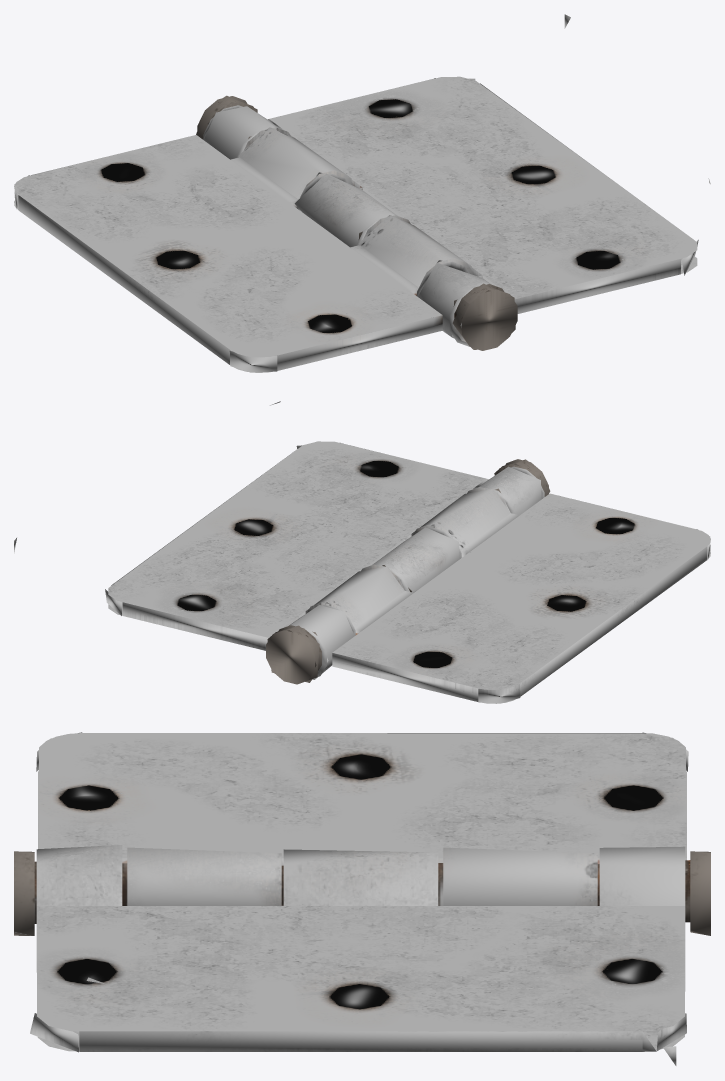
Rendered from hinge.fbx.
The picture shows the model from 3 angles, top to bottom: view 1: azimuth 30°, elevation 25°; view 2: azimuth 150°, elevation 25°; view 3: azimuth 270°, elevation 25°; orthographic projection. The views are drawn at different scales.
Parts seen in each view (by area): view 1: Object_2.001, Object_2.002; view 2: Object_2.001, Object_2.002; view 3: Object_2.002, Object_2.001.
Boxes of the visible parts, x1,y1,x2,y2 form: Object_2.001: [14, 14, 710, 372]; Object_2.002: [203, 76, 698, 346]; Object_2.001: [14, 401, 710, 703]; Object_2.002: [105, 441, 544, 679]; Object_2.002: [30, 845, 686, 1052]; Object_2.001: [14, 732, 710, 1065].
Size of the model in its own units: 15.07 by 2.34 by 12.3.
